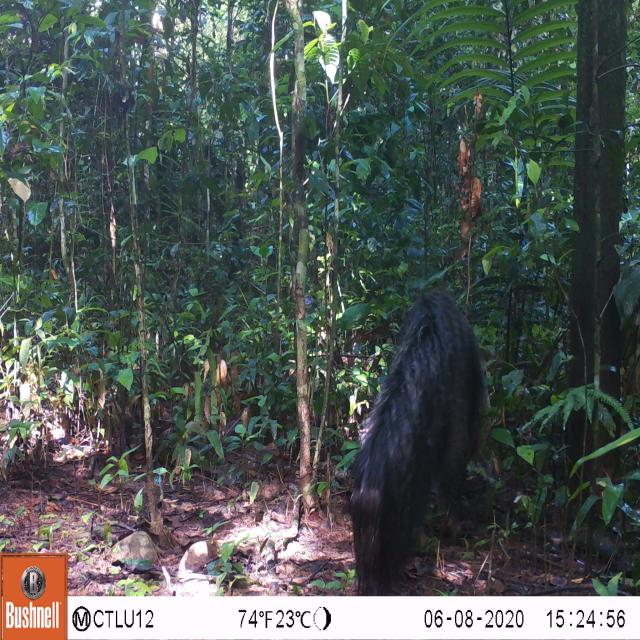Giant Anteater: (339, 280, 498, 593)
